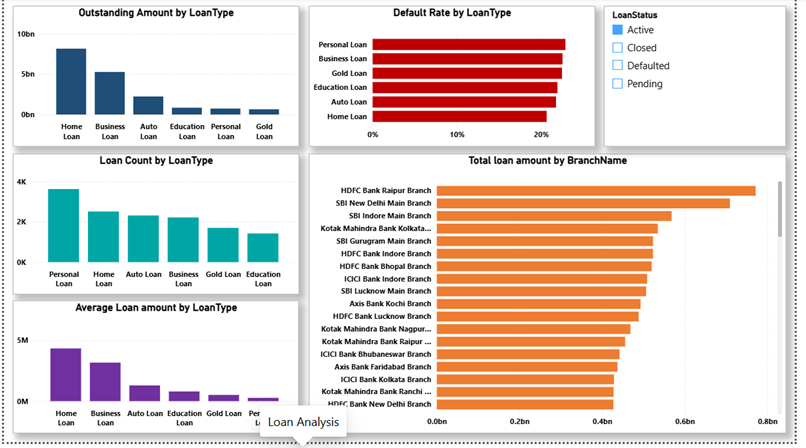

Layout of this report page (visuals, bound fields, positions):
{"tool":"powerbi","page":{"name":"Loan Analysis","canvas":[1280,720],"ordinal":1},"visuals":[{"type":"clusteredColumnChart","title":"Outstanding Amount by LoanType","fields":{"Category":["Loan.LoanType"],"Y":["Account.Outstanding Loan Amount"]},"box":[14.6,13,463.1,228.3],"z":0},{"type":"clusteredBarChart","title":"Default Rate by LoanType","fields":{"Category":["Loan.LoanType"],"Y":["Account.Default Rate1"]},"box":[493.9,13,463,228.3],"z":1000},{"type":"clusteredColumnChart","fields":{"Y":["Account.Loan Count"],"Category":["Loan.LoanType"]},"box":[14.6,252.8,463.1,228],"z":2000},{"type":"clusteredColumnChart","fields":{"Y":["Account.Average Loan amount"],"Category":["Loan.LoanType"]},"box":[15.1,491.3,463,215.4],"z":3000},{"type":"clusteredBarChart","fields":{"Y":["Account.Total loan amount"],"Category":["Branch.BranchName"]},"box":[493.9,252.6,772.4,453.4],"z":4000},{"type":"slicer","fields":{"Values":["Loan.LoanStatus"]},"box":[971.5,13,294.7,228.3],"z":5000}]}

Visuals, with their boxes in screenshot pixels (x1, y1, x2, y2), scaled from the page's 1280x720 canvas onto the 806x448 screenshot:
"Outstanding Amount by LoanType" clusteredColumnChart: pyautogui.locateOnScreen(9, 8, 301, 150)
"Default Rate by LoanType" clusteredBarChart: pyautogui.locateOnScreen(311, 8, 603, 150)
clusteredColumnChart - Account.Loan Count x Loan.LoanType: pyautogui.locateOnScreen(9, 157, 301, 299)
clusteredColumnChart - Account.Average Loan amount x Loan.LoanType: pyautogui.locateOnScreen(10, 306, 301, 440)
clusteredBarChart - Account.Total loan amount x Branch.BranchName: pyautogui.locateOnScreen(311, 157, 797, 439)
slicer - Loan.LoanStatus: pyautogui.locateOnScreen(612, 8, 797, 150)
